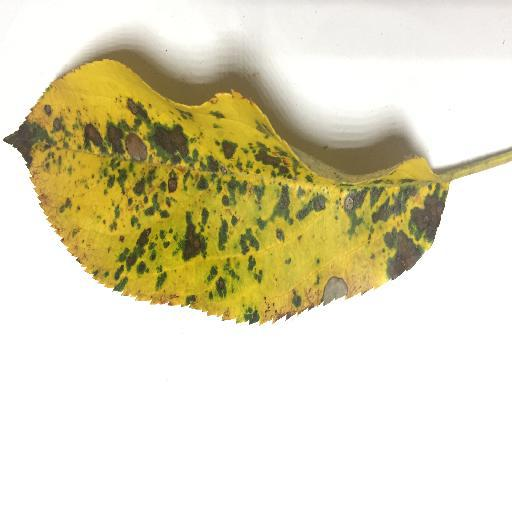Brown_Spot: (3, 55, 508, 363)
